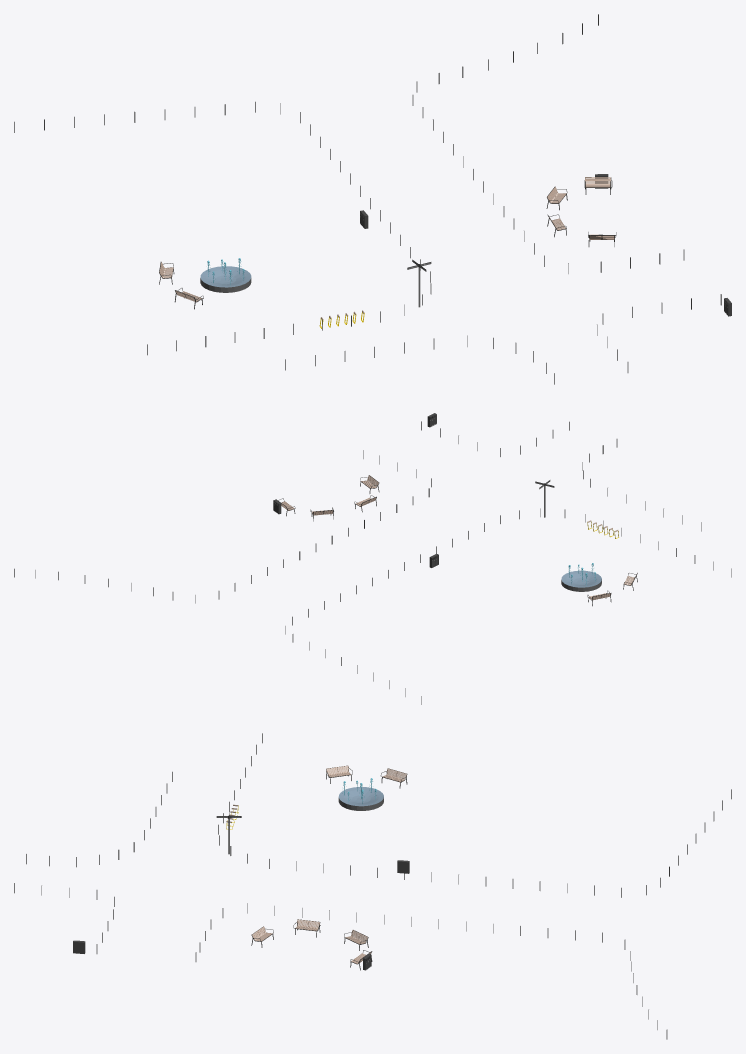
The model's file is mobiliarNew.glb.
The picture shows the model from 3 angles, top to bottom: view 1: azimuth 30°, elevation 25°; view 2: azimuth 150°, elevation 25°; view 3: azimuth 270°, elevation 25°; orthographic projection. The views are drawn at different scales.
Visible parts, largest first — view 1: new mobiliar remeshed with poles; view 2: new mobiliar remeshed with poles; view 3: new mobiliar remeshed with poles.
Boxes of the visible parts, <box> form: new mobiliar remeshed with poles: <box>14,14,731,384</box>; new mobiliar remeshed with poles: <box>14,413,731,704</box>; new mobiliar remeshed with poles: <box>14,733,731,1039</box>.
Bounding box in the file's own units: 50.32 × 3.06 × 51.47.
13 materials, 4 textured.
